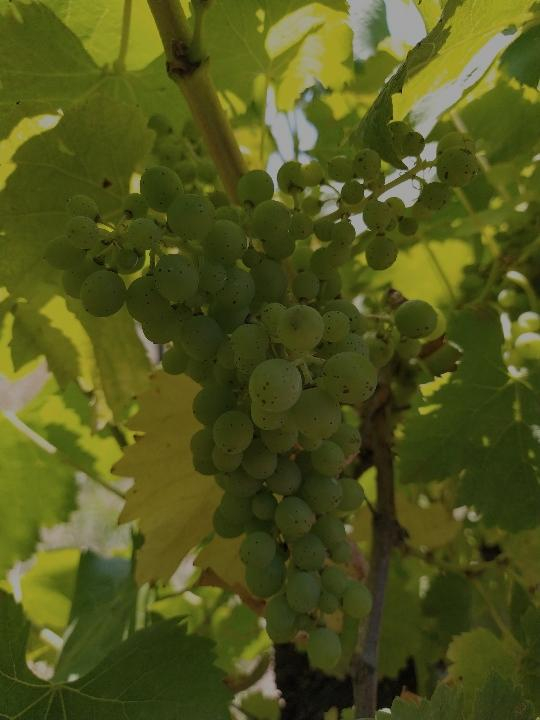grape: (38, 121, 482, 672)
